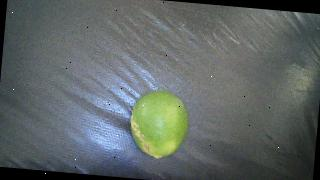DESECHO: (127, 87, 191, 160)
